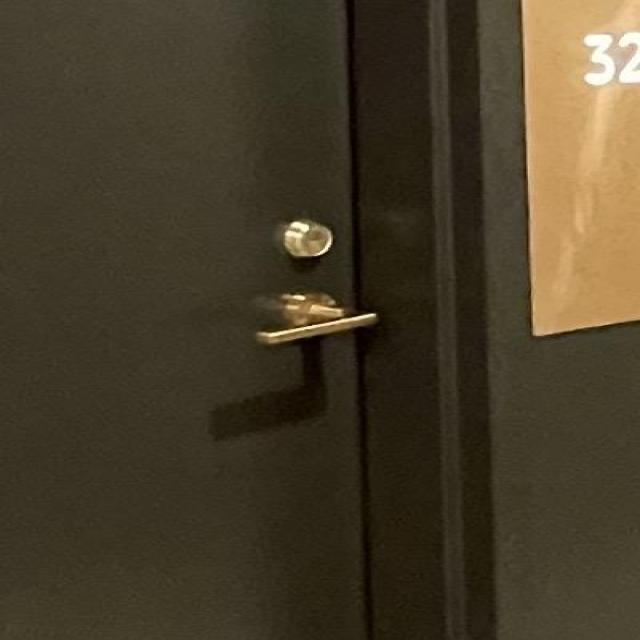door_handle: (248, 283, 391, 361)
